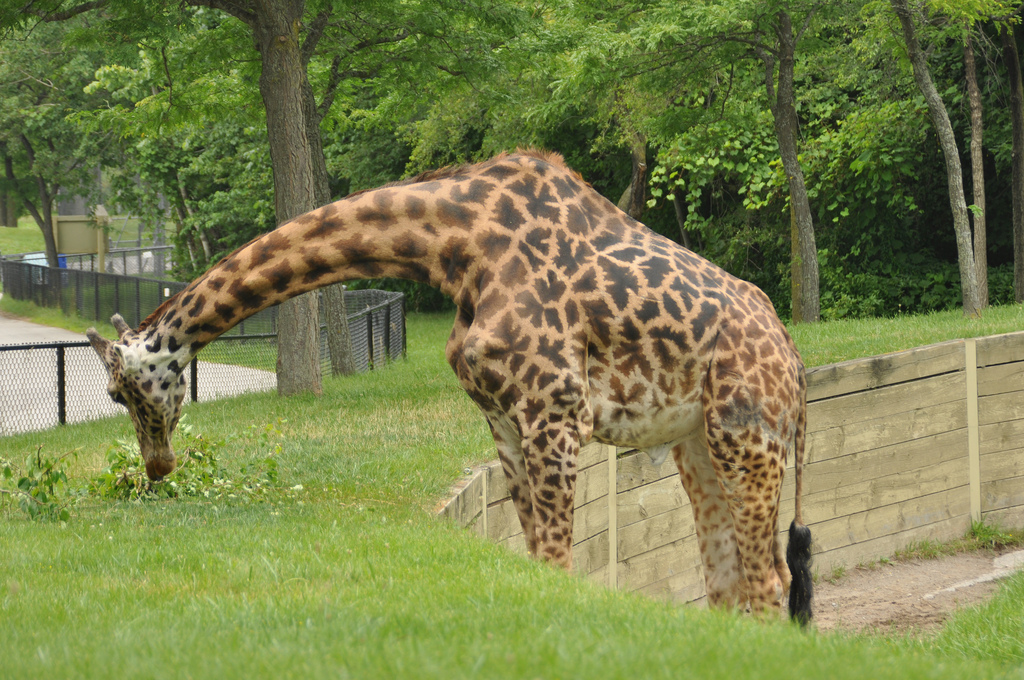giraffe: (67, 144, 809, 631)
